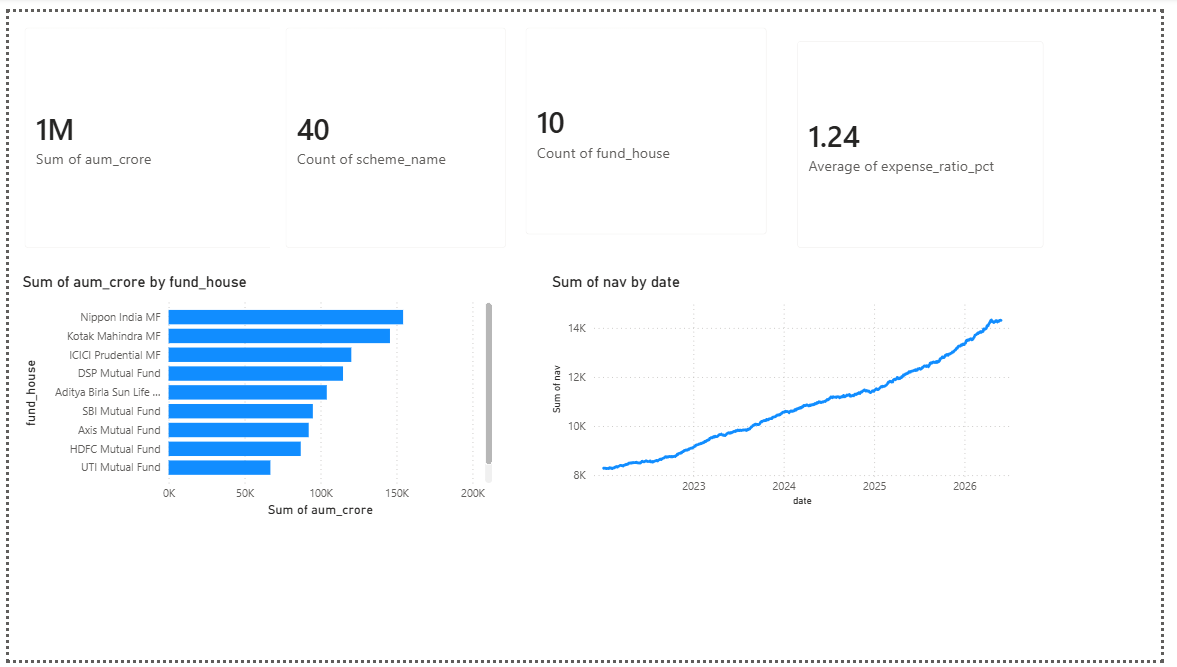

Layout of this report page (visuals, bound fields, positions):
{"tool":"powerbi","page":{"name":"Industry Overview","canvas":[1280,720],"ordinal":0},"visuals":[{"type":"cardVisual","box":[10,0,280,280],"z":0},{"type":"cardVisual","fields":{"Data":["Sum(cleaned_scheme_performance.aum_crore)"]},"box":[0,0,348.9,279.1],"z":1},{"type":"cardVisual","fields":{"Data":["Count(cleaned_scheme_performance.scheme_name)"]},"box":[289.7,0,279.1,279.1],"z":2},{"type":"cardVisual","fields":{"Data":["Count(cleaned_scheme_performance.fund_house)"]},"box":[556.1,0,302.4,264.3],"z":3},{"type":"cardVisual","fields":{"Data":["Avg(cleaned_scheme_performance.expense_ratio_pct)"]},"box":[858.5,14.8,308.7,264.3],"z":4},{"type":"clusteredBarChart","fields":{"Category":["cleaned_scheme_performance.fund_house"],"Y":["Sum(cleaned_scheme_performance.aum_crore)"]},"box":[10,290,531.7,275],"z":5},{"type":"lineChart","fields":{"Y":["Sum(cleaned_nav_history.nav)"],"Category":["cleaned_nav_history.date"]},"box":[598.3,290,521.7,263.3],"z":6}]}

Visuals, with their boxes in screenshot pixels (x1, y1, x2, y2), scaled from the page's 1280x720 canvas onto the 1177x667 screenshot:
cardVisual: bbox=(9, 0, 267, 259)
cardVisual - Sum(cleaned_scheme_performance.aum_crore): bbox=(0, 0, 321, 259)
cardVisual - Count(cleaned_scheme_performance.scheme_name): bbox=(266, 0, 523, 259)
cardVisual - Count(cleaned_scheme_performance.fund_house): bbox=(511, 0, 789, 245)
cardVisual - Avg(cleaned_scheme_performance.expense_ratio_pct): bbox=(789, 14, 1073, 259)
clusteredBarChart - cleaned_scheme_performance.fund_house x Sum(cleaned_scheme_performance.aum_crore): bbox=(9, 269, 498, 523)
lineChart - Sum(cleaned_nav_history.nav) x cleaned_nav_history.date: bbox=(550, 269, 1030, 513)
